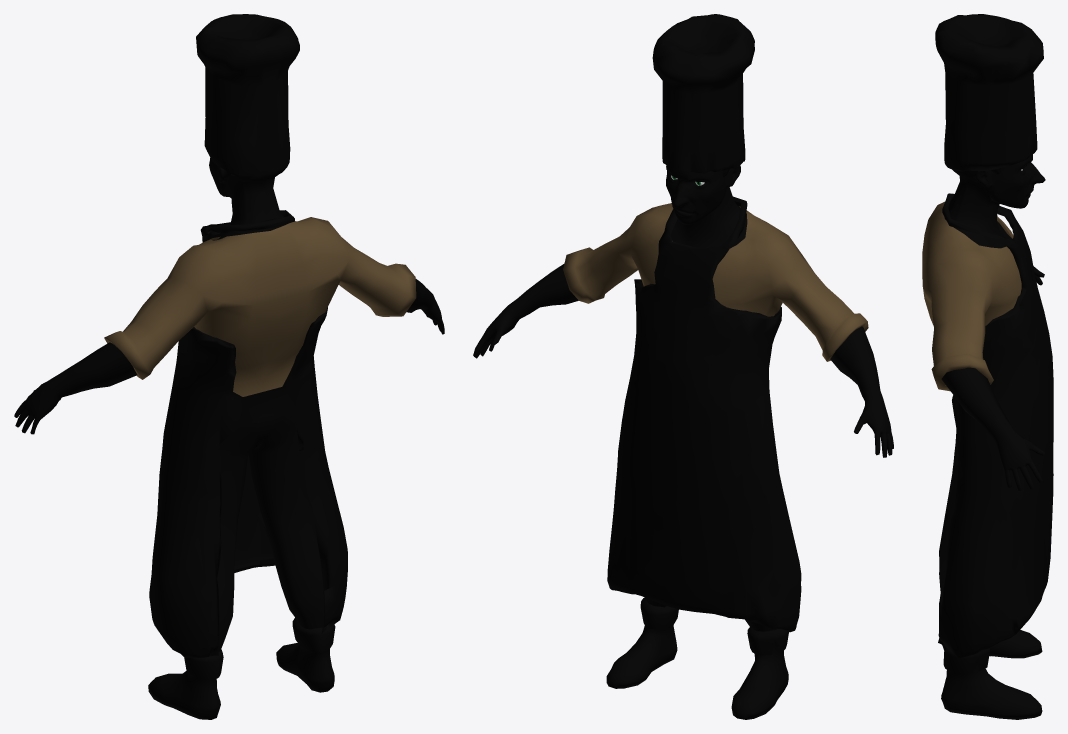
The model's file is Draydun_01.fbx.
3 renders of one model, left to right at view 1: azimuth 30°, elevation 25°; view 2: azimuth 150°, elevation 25°; view 3: azimuth 270°, elevation 25°, orthographic. The views are drawn at different scales.
Visible parts, largest first — view 1: Frank; view 2: Frank; view 3: Frank.
Part boxes in pixels (left/top/right/bottom): Frank: left=14, top=14, right=444, bottom=719; Frank: left=473, top=14, right=893, bottom=719; Frank: left=922, top=14, right=1053, bottom=719.
Size of the model in its own units: 153 by 231 by 41.85.
